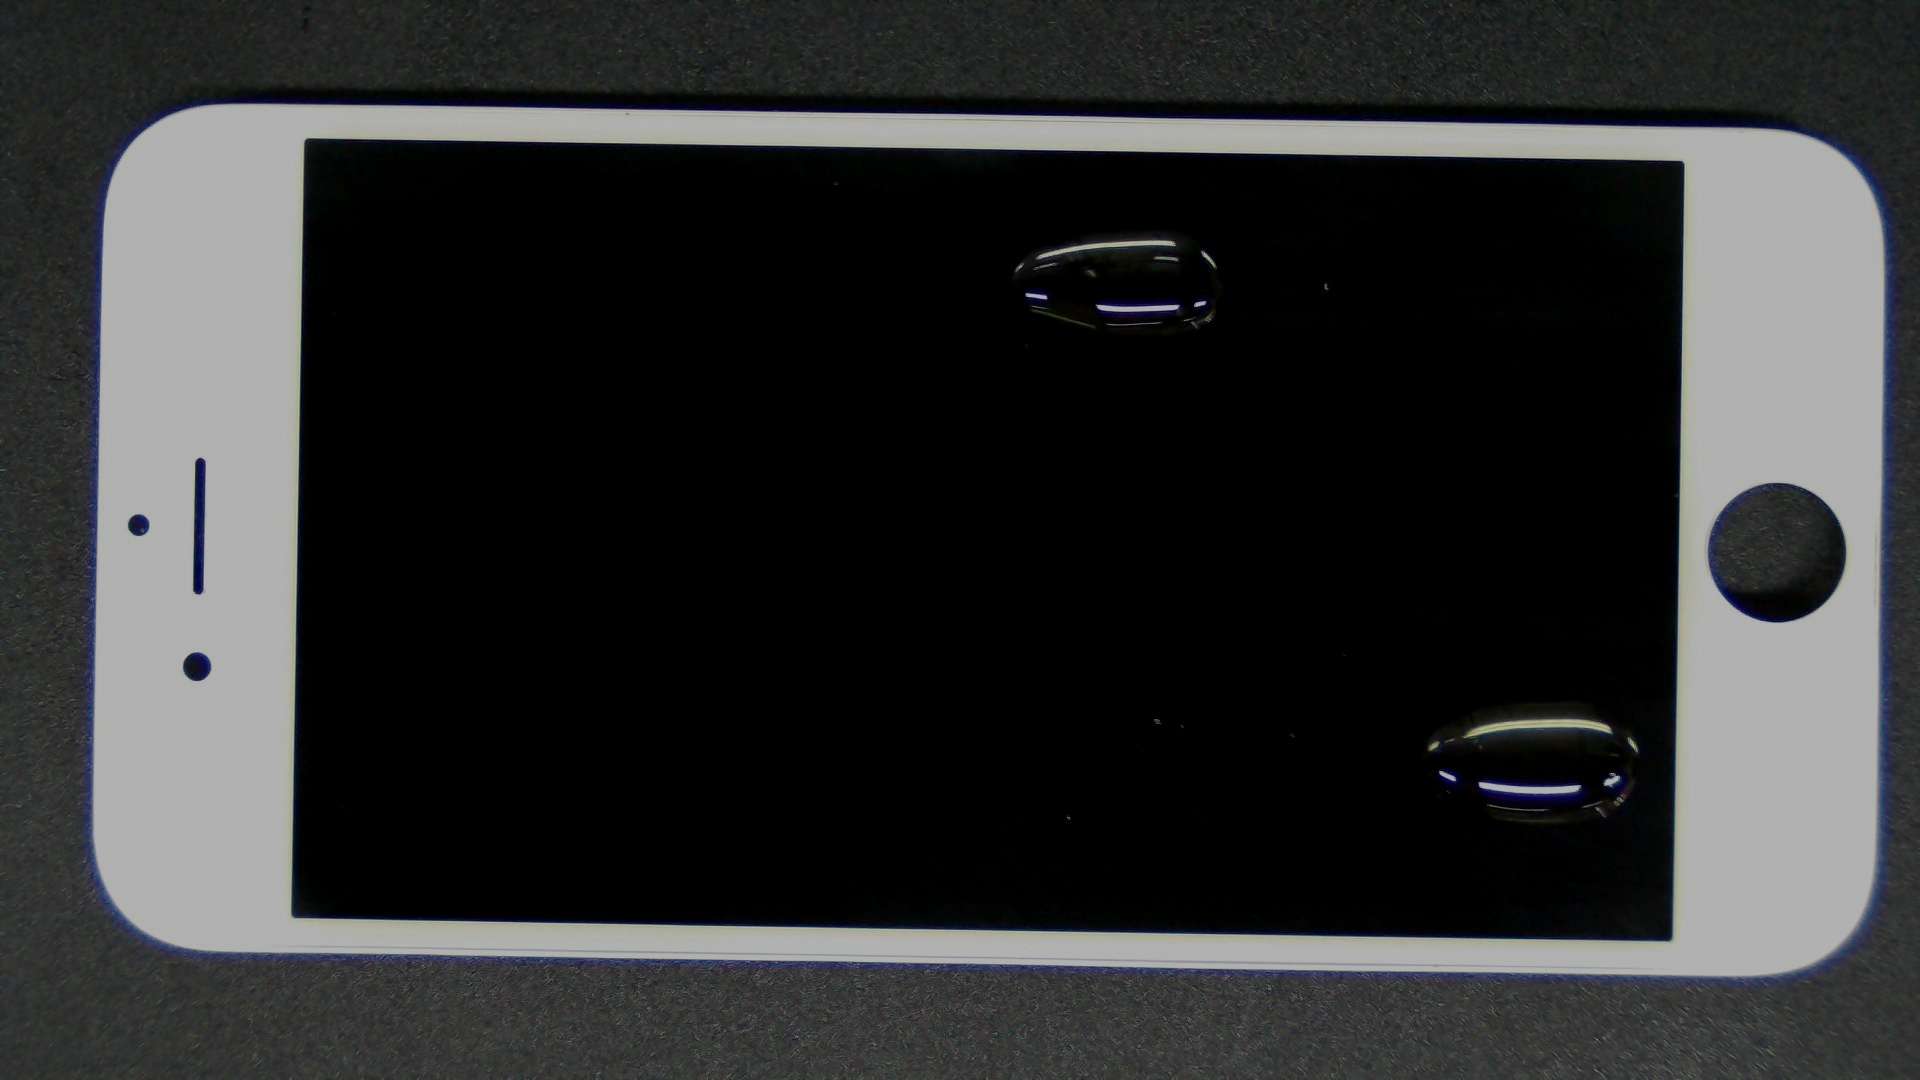oil: (781, 349, 1920, 1051), (562, 115, 1684, 345)
